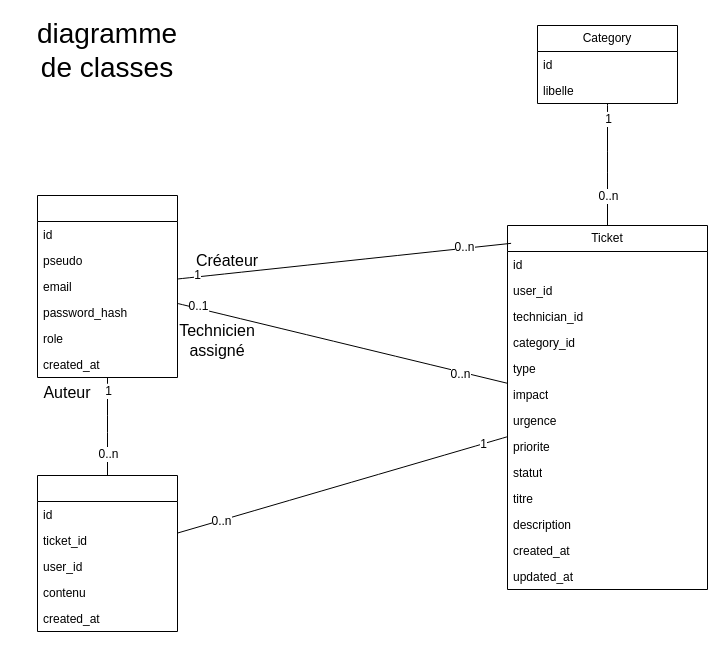
The diagram is 725 pixels wide and 652 high, and some of its shapes have lost their labels. Each missing label, with the box of its shape:
Comment: (36, 474, 178, 632)
User: (36, 194, 178, 378)
